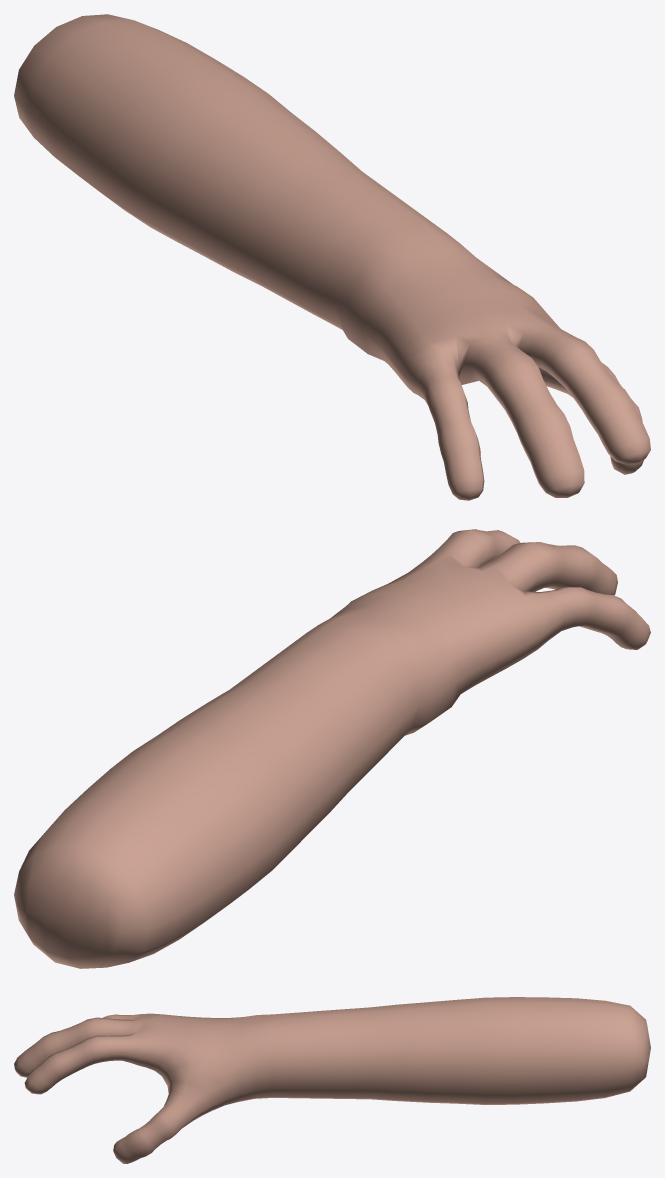
The model's file is mano.fbx.
3 views of the same model, one above another, from view 1: azimuth 30°, elevation 25°; view 2: azimuth 150°, elevation 25°; view 3: azimuth 270°, elevation 25° (orthographic). The views are drawn at different scales.
Parts seen in each view (by area): view 1: AnatomyHandAlien:alienhand; view 2: AnatomyHandAlien:alienhand; view 3: AnatomyHandAlien:alienhand.
Boxes of the visible parts, x1=… form: AnatomyHandAlien:alienhand: x1=14, y1=14, x2=650, y2=500; AnatomyHandAlien:alienhand: x1=14, y1=529, x2=650, y2=968; AnatomyHandAlien:alienhand: x1=14, y1=997, x2=650, y2=1163.
Size of the model in its own units: 0.1728 by 0.1316 by 0.6172.
